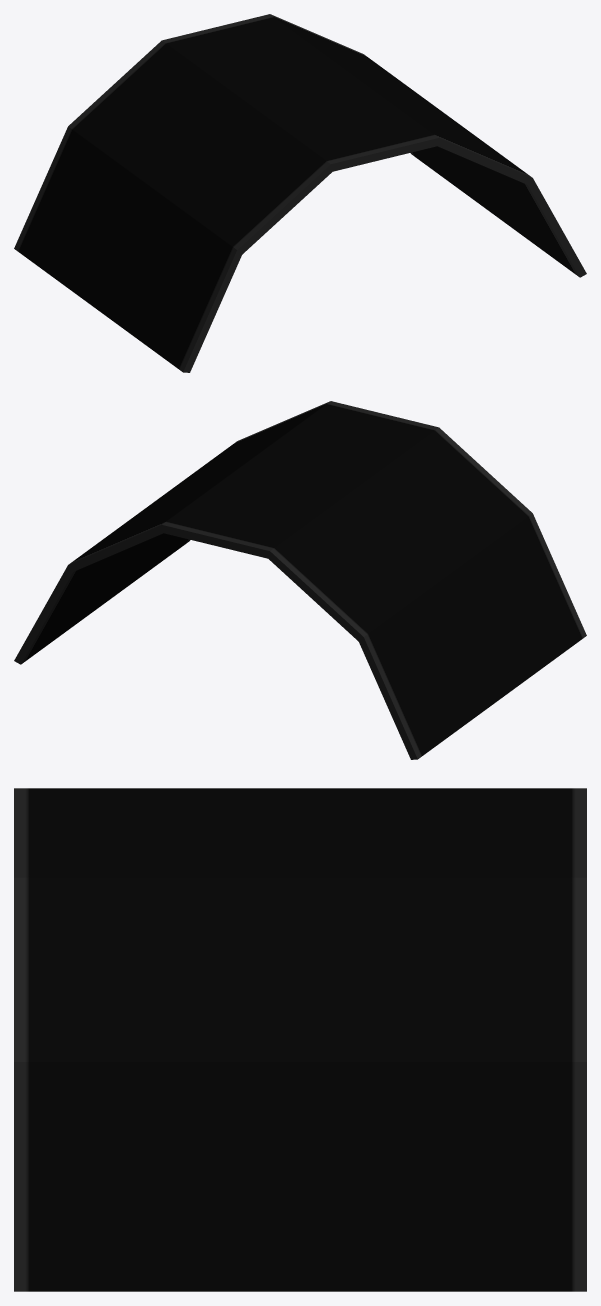
File: dc_metro_roof_d1.obj
3 renders of one model, top to bottom at view 1: azimuth 30°, elevation 25°; view 2: azimuth 150°, elevation 25°; view 3: azimuth 270°, elevation 25°, orthographic. The views are drawn at different scales.
Parts seen in each view (by area): view 1: part1; view 2: part1; view 3: part1.
Part boxes in pixels (x1,y1,x2,y2): part1: [14, 14, 586, 372]; part1: [14, 401, 586, 759]; part1: [14, 788, 586, 1291].
Size of the model in its own units: 1.38 by 0.569 by 1.
1 material, 1 textured.
